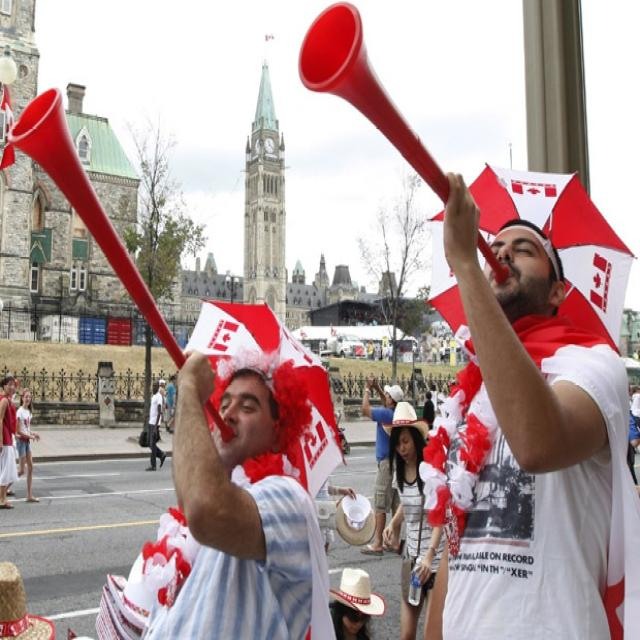body: (422, 170, 631, 640), (130, 346, 343, 638), (380, 399, 455, 639), (304, 308, 464, 414), (360, 373, 406, 557), (310, 431, 368, 560), (0, 558, 56, 638), (327, 564, 385, 639), (14, 388, 42, 504), (138, 380, 168, 473), (0, 374, 19, 512), (626, 355, 639, 509), (164, 373, 179, 434), (158, 377, 171, 435)
